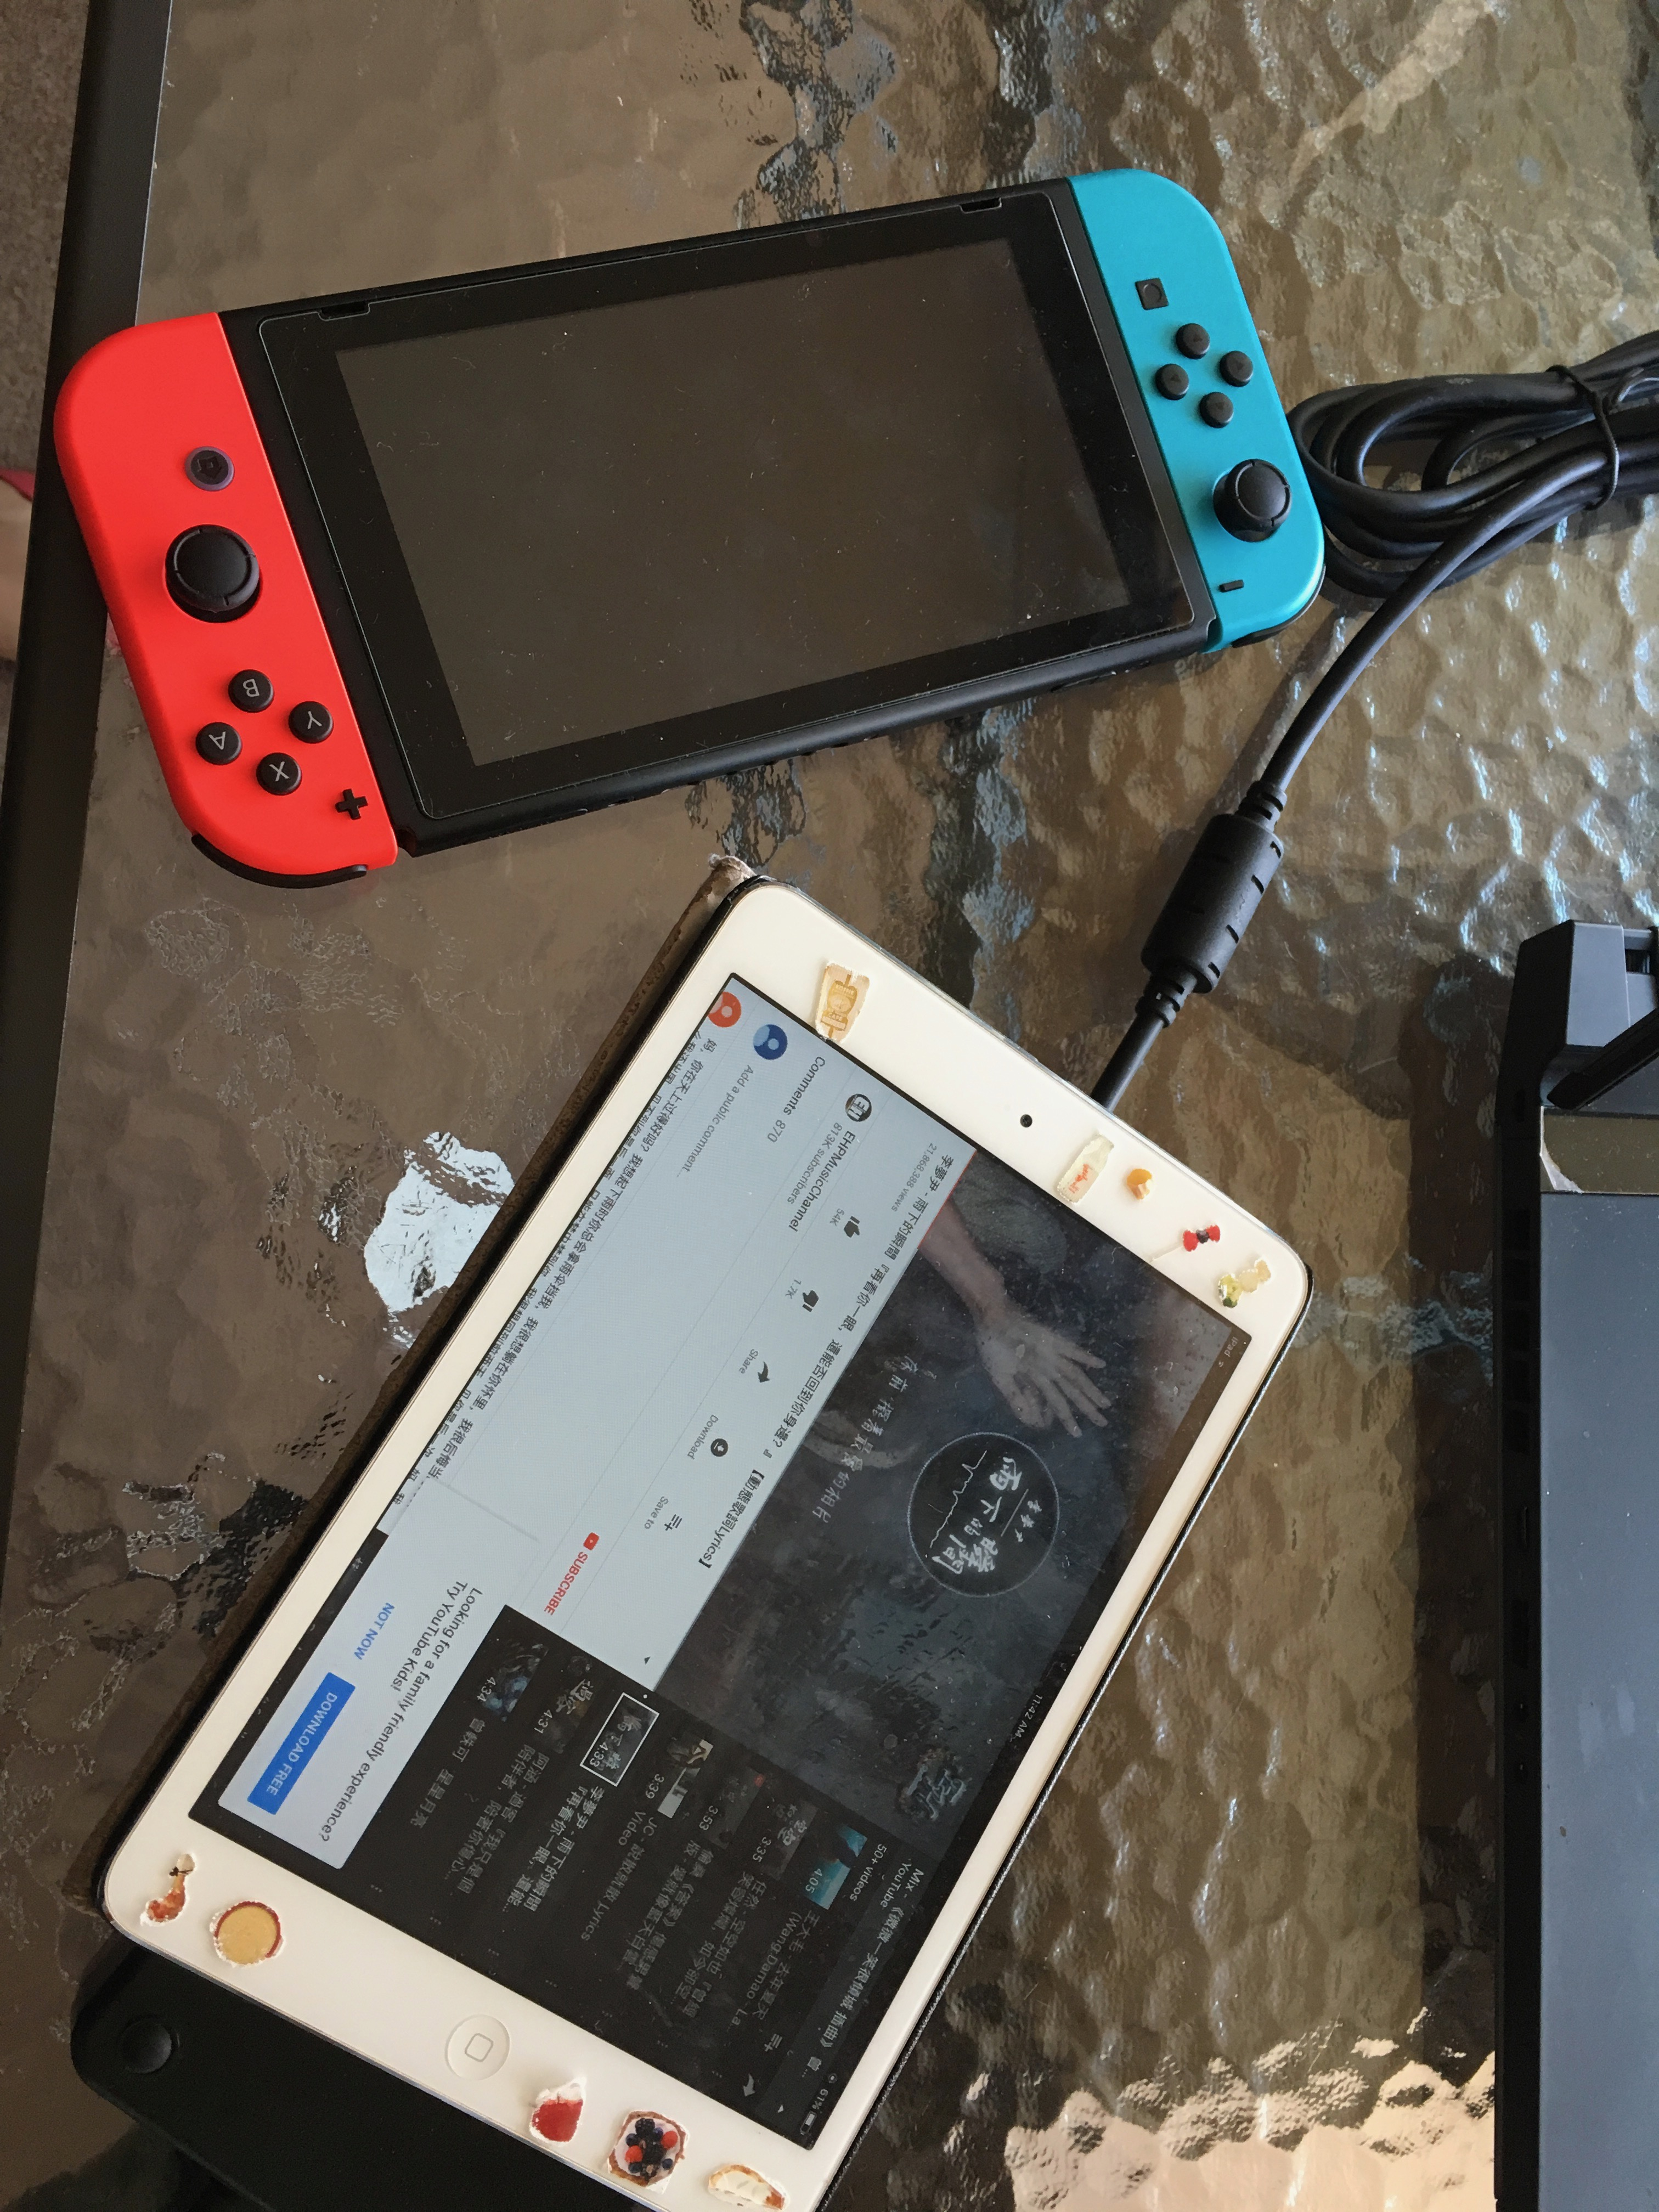NintendoSwitch: (45, 162, 1368, 909)
